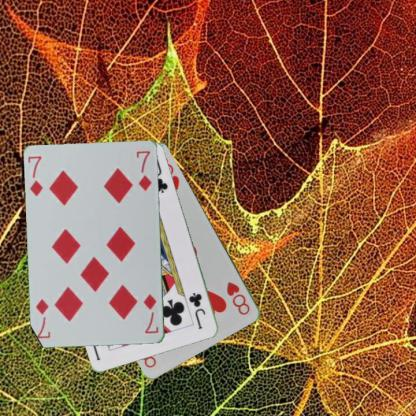7d: (26, 154, 44, 198), (141, 292, 159, 335)
8h: (224, 279, 252, 317)
Jc: (186, 290, 208, 331)
